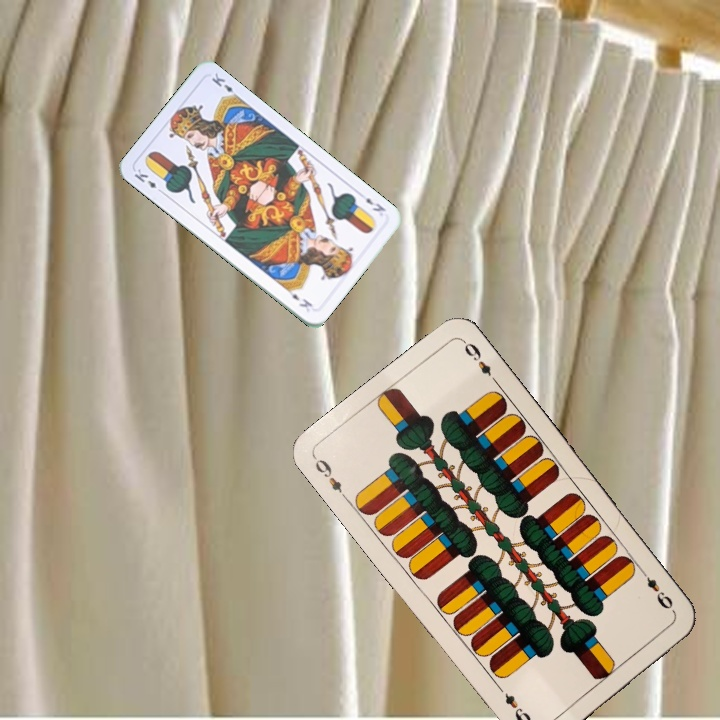E9: (636, 566, 678, 616), (310, 453, 351, 504)
EK: (130, 165, 166, 196), (362, 193, 388, 214)
